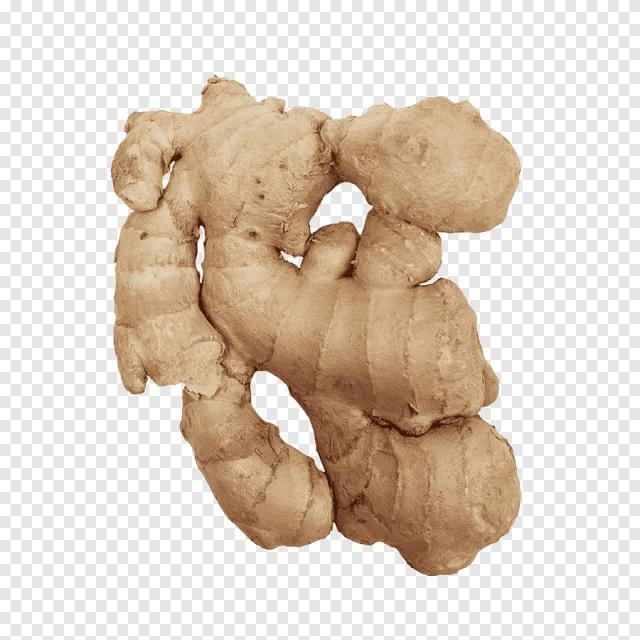ginger-root: (105, 58, 553, 586)
